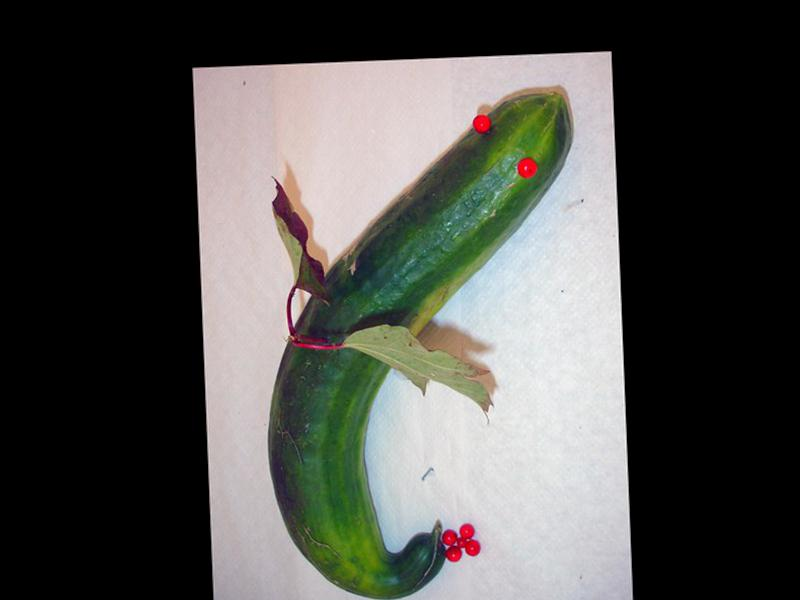Cucumber: (254, 91, 589, 600)
